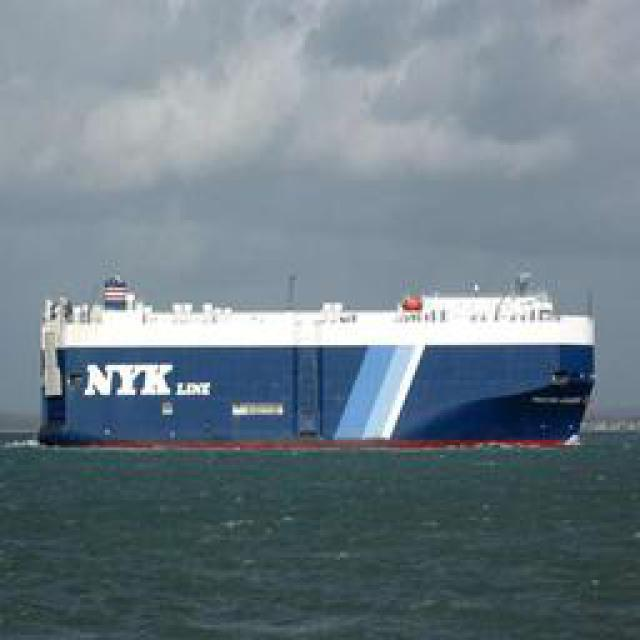Ship: (42, 281, 602, 446)
